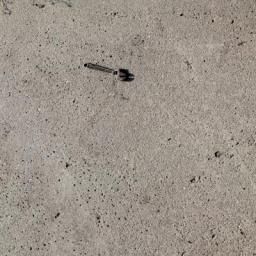FOD: (81, 59, 137, 86)
